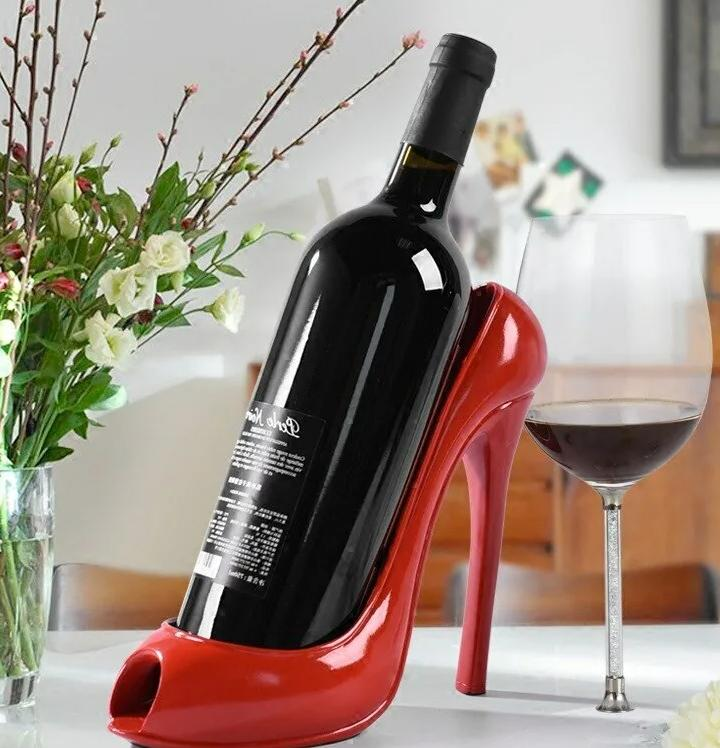wine bottle: (171, 34, 498, 650)
wine label: (194, 399, 325, 599)
